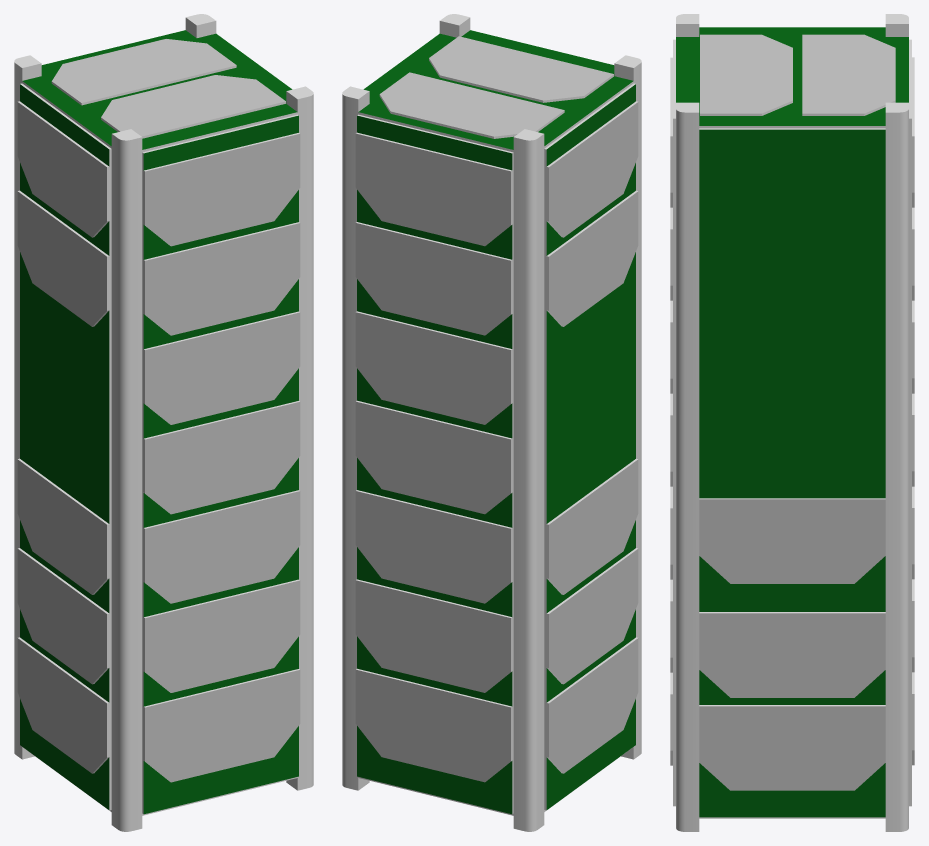
File: powersimtrial.gltf
3 views of the same model, side by side, from view 1: azimuth 30°, elevation 25°; view 2: azimuth 150°, elevation 25°; view 3: azimuth 270°, elevation 25° (orthographic). The views are drawn at different scales.
Parts seen in each view (by area): view 1: CubeSat, 2, 1, 6; view 2: CubeSat, 5, 1, 6; view 3: CubeSat, 4, 6, 2, 5.
Boxes of the visible parts, <box> form: CubeSat: <box>14,14,313,831</box>; 2: <box>143,133,300,782</box>; 1: <box>17,101,109,773</box>; 6: <box>51,39,285,138</box>; CubeSat: <box>342,14,641,831</box>; 5: <box>355,132,512,782</box>; 1: <box>546,101,638,773</box>; 6: <box>379,36,613,138</box>; CubeSat: <box>673,14,911,831</box>; 4: <box>699,498,885,790</box>; 6: <box>700,34,895,115</box>; 2: <box>670,57,673,765</box>; 5: <box>911,57,914,765</box>.
Size of the model in its own units: 0.1048 by 0.3405 by 0.1047.
